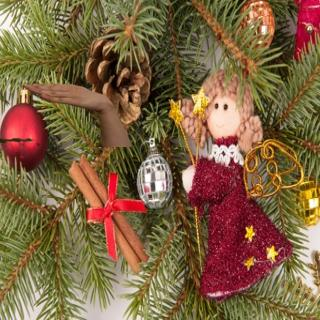WAIT: (21, 78, 107, 112)
